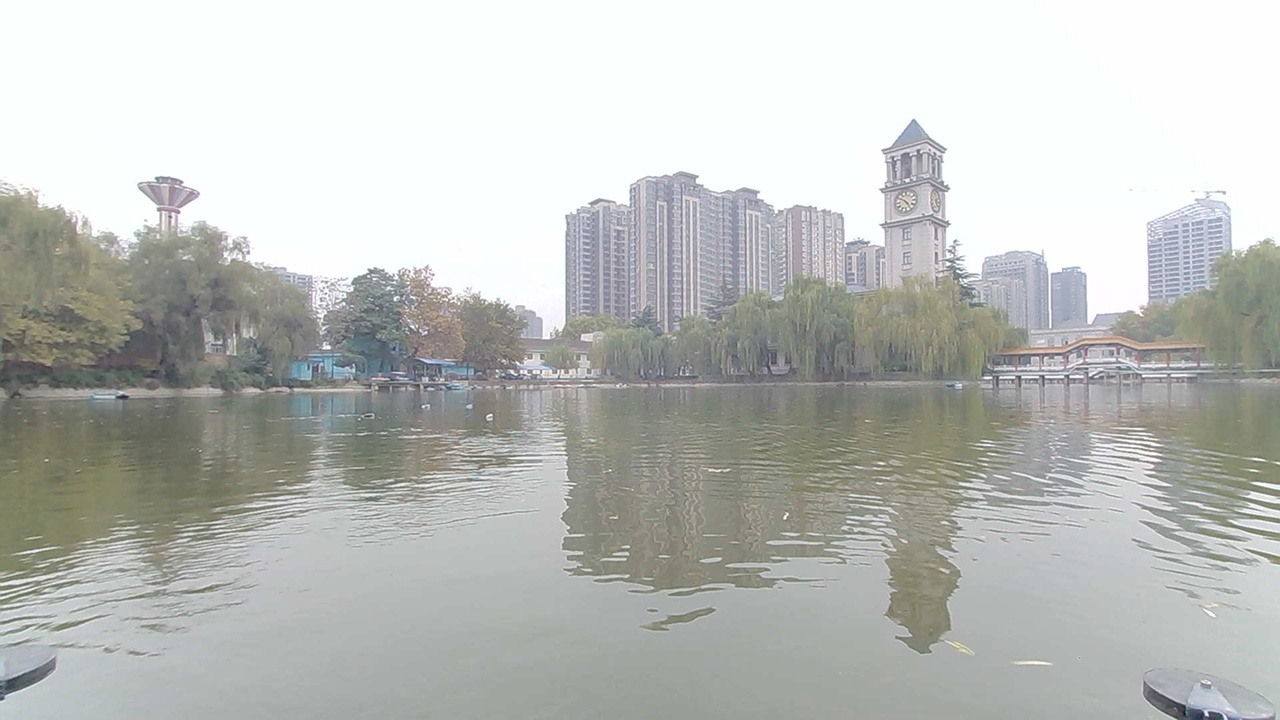bottle: (486, 401, 522, 432), (356, 405, 390, 434), (458, 391, 496, 416), (419, 392, 447, 417)
